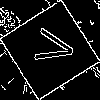V: (25, 25, 77, 68)
